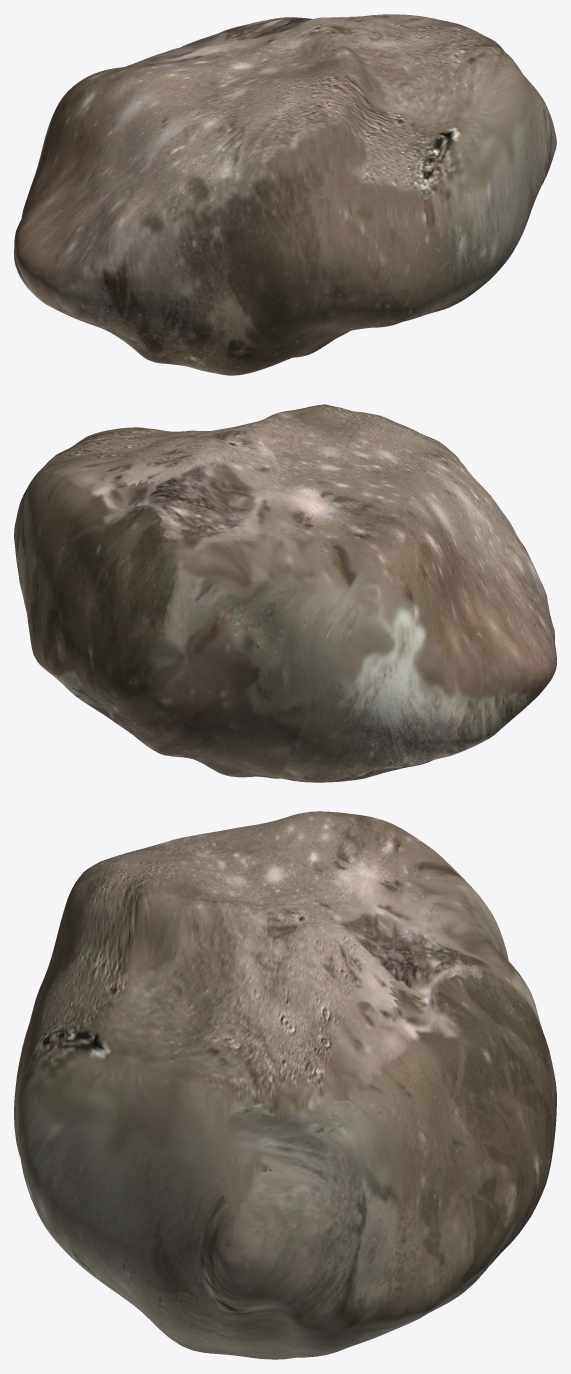
File: Metis.glb
3 renders of one model, top to bottom at view 1: azimuth 30°, elevation 25°; view 2: azimuth 150°, elevation 25°; view 3: azimuth 270°, elevation 25°, orthographic. The views are drawn at different scales.
Visible parts, largest first — view 1: Metis; view 2: Metis; view 3: Metis.
Part boxes in pixels (box(x1,y1,x2,y2)): Metis: box(14, 14, 556, 375); Metis: box(14, 404, 556, 782); Metis: box(14, 811, 556, 1359).
Bounding box in the file's own units: 60 × 34 × 40.
Materials: 1 (1 with a texture image).
